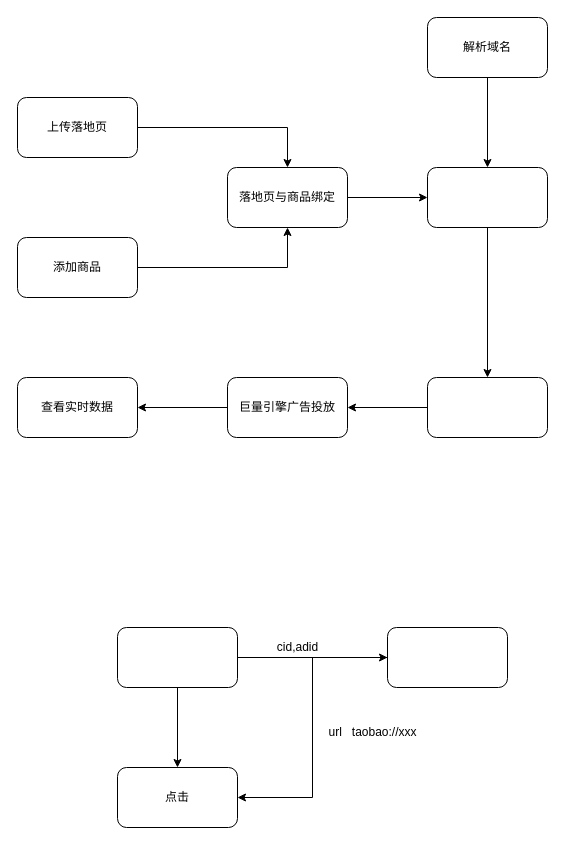
The diagram is 565 pixels wide and 845 high, and some of its shapes have lost their labels. The shapes that lost their labels are listed below. From the top down, each one's centre as x and y in pixels, then its label:
(x=487, y=197): 触发绑定域名
(x=487, y=407): 测试是否绑定成功
(x=177, y=657): 进入
(x=447, y=657): 后端
